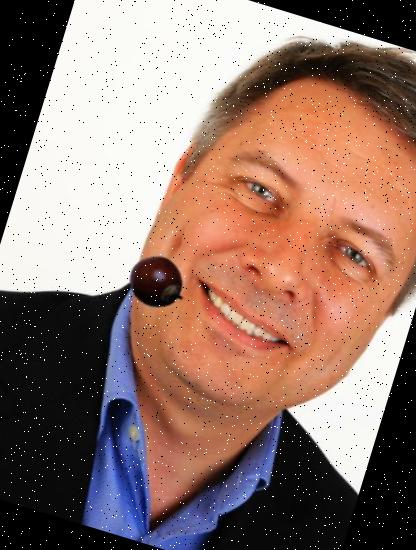Tamarillo: (122, 247, 192, 318)
